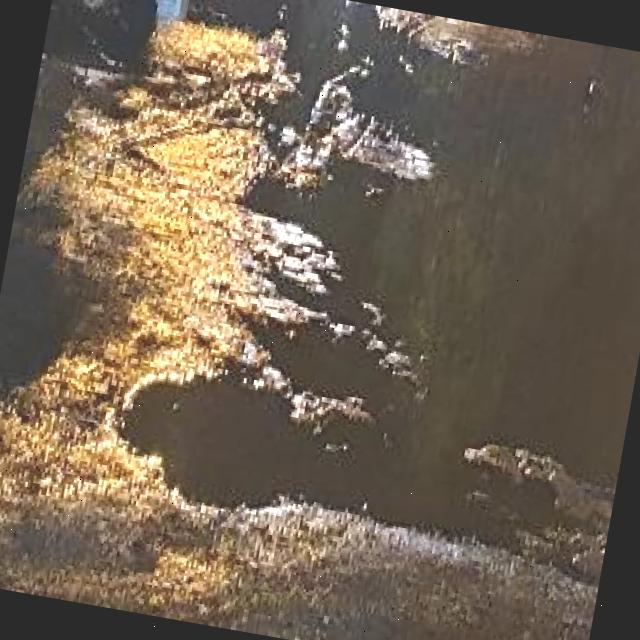stagnation: (84, 0, 640, 577)
